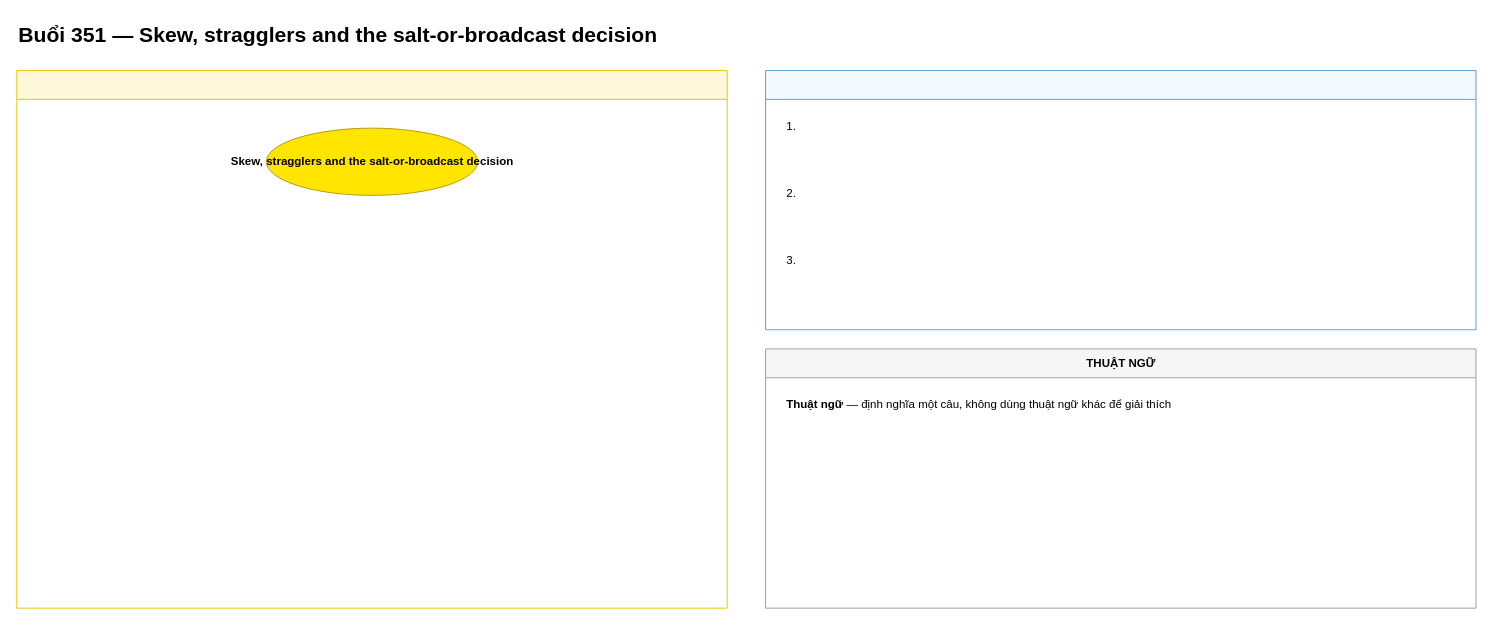
The diagram is 1493 pixels wide and 625 high, and some of its shapes have lost their labels. Here are the shapes that lost their labels. From the top down, the box of each, then its label:
(765, 70, 1476, 330): KEY TAKEAWAY — ba điều phải nhớ
(16, 70, 727, 608): MINDMAP
